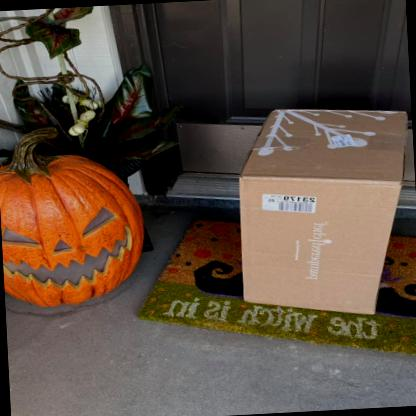box: (239, 109, 411, 316)
